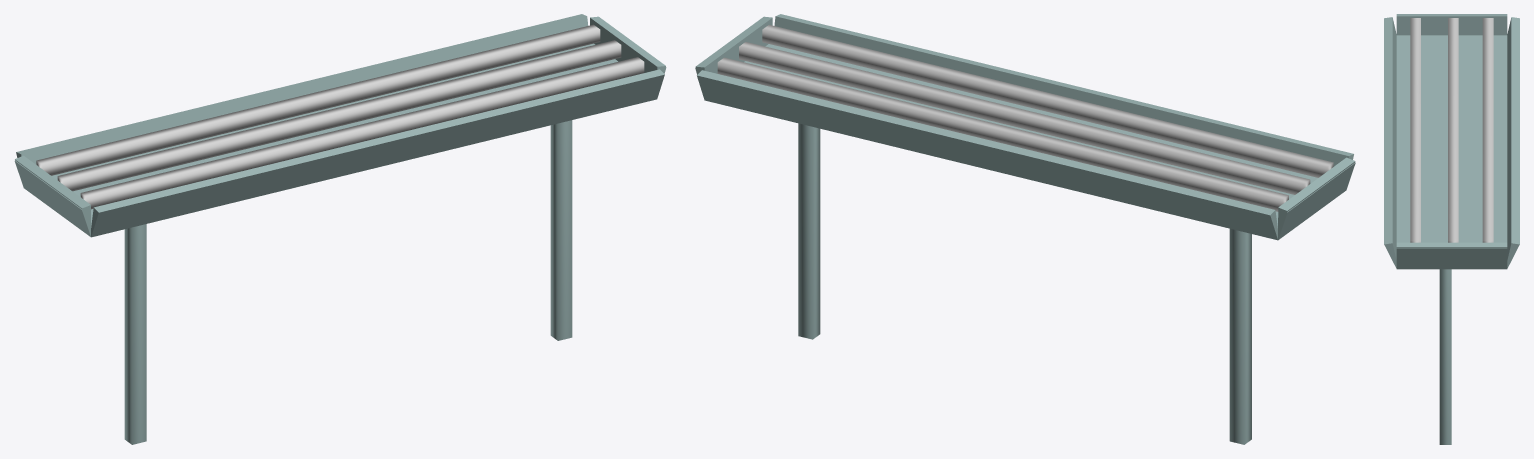
File: LampCeiling1.dae
3 renders of one model, left to right at view 1: azimuth 30°, elevation 25°; view 2: azimuth 150°, elevation 25°; view 3: azimuth 270°, elevation 25°, orthographic. The views are drawn at different scales.
Parts seen in each view (by area): view 1: LampBase, light1, light2, light3, Leg2, Leg1; view 2: LampBase, light3, light2, light1, Leg1, Leg2; view 3: LampBase, light1, light2, light3, Leg2.
Boxes of the visible parts, left/top/right/bottom form: LampBase: left=14, top=14, right=666, bottom=237; light1: left=36, top=24, right=600, bottom=175; light2: left=57, top=40, right=621, bottom=191; light3: left=80, top=57, right=644, bottom=209; Leg2: left=550, top=120, right=572, bottom=340; Leg1: left=124, top=224, right=146, bottom=444; LampBase: left=695, top=14, right=1355, bottom=240; light3: left=762, top=24, right=1333, bottom=177; light2: left=739, top=42, right=1310, bottom=194; light1: left=717, top=57, right=1288, bottom=211; Leg1: left=1229, top=228, right=1251, bottom=444; Leg2: left=798, top=123, right=820, bottom=339; LampBase: left=1384, top=14, right=1519, bottom=269; light1: left=1482, top=18, right=1493, bottom=242; light2: left=1448, top=18, right=1458, bottom=242; light3: left=1410, top=18, right=1420, bottom=242; Leg2: left=1439, top=269, right=1451, bottom=444.
Size of the model in its own units: 10.02 by 2.46 by 4.51.
